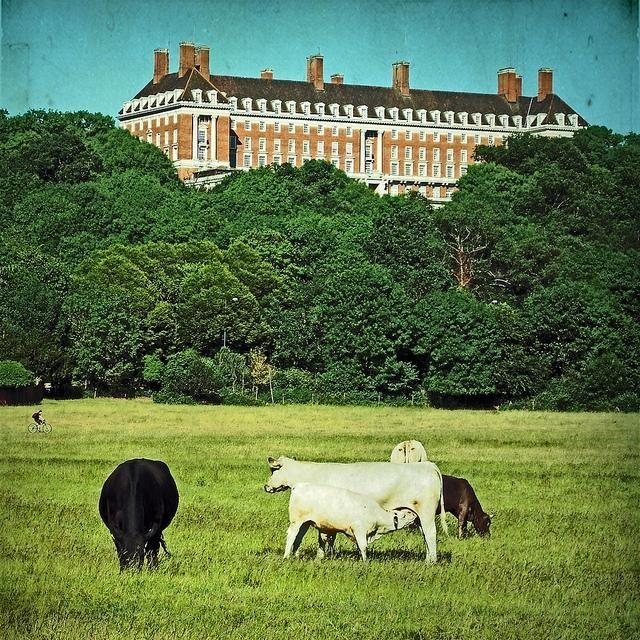bicycle: (28, 420, 54, 433)
